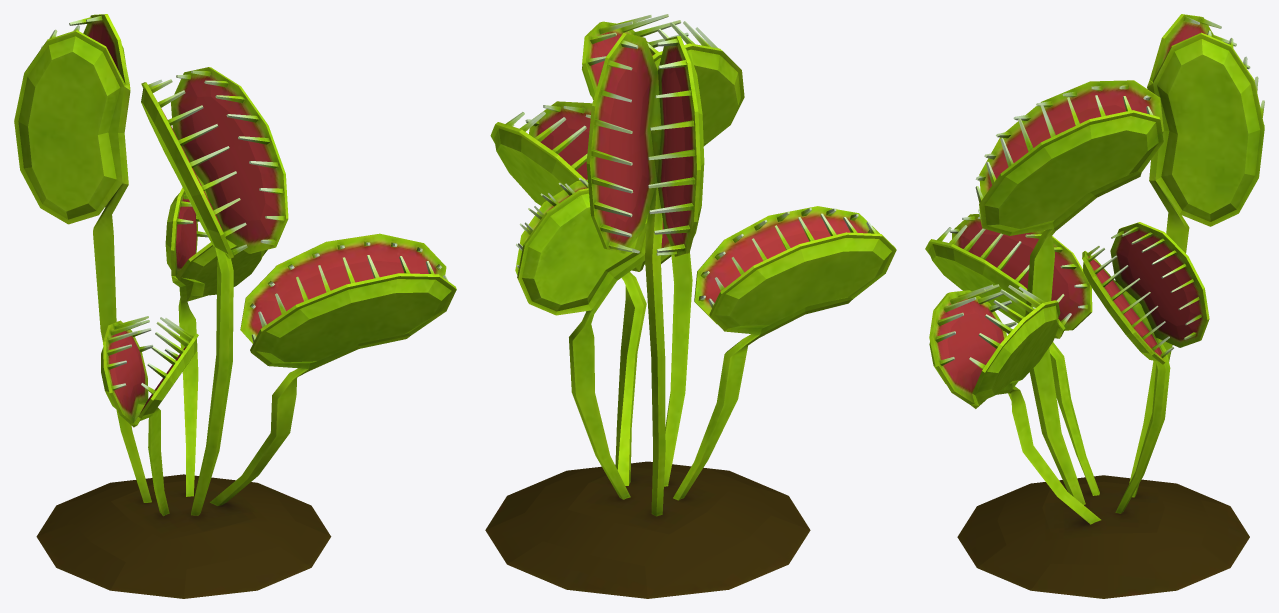
Rendered from venus-flytrap-poly-by-google_0y4ZpRcGhoD.glb.
3 views of the same model, side by side, from view 1: azimuth 30°, elevation 25°; view 2: azimuth 150°, elevation 25°; view 3: azimuth 270°, elevation 25° (orthographic). The views are drawn at different scales.
Parts seen in each view (by area): view 1: VenusFlyTrap_mesh; view 2: VenusFlyTrap_mesh; view 3: VenusFlyTrap_mesh.
Boxes of the visible parts, x1,y1,x2,y2 form: VenusFlyTrap_mesh: [14, 14, 456, 598]; VenusFlyTrap_mesh: [485, 14, 896, 598]; VenusFlyTrap_mesh: [925, 14, 1264, 598].
Bounding box in the file's own units: 8.08 × 10.81 × 6.79.
1 material, 1 textured.
